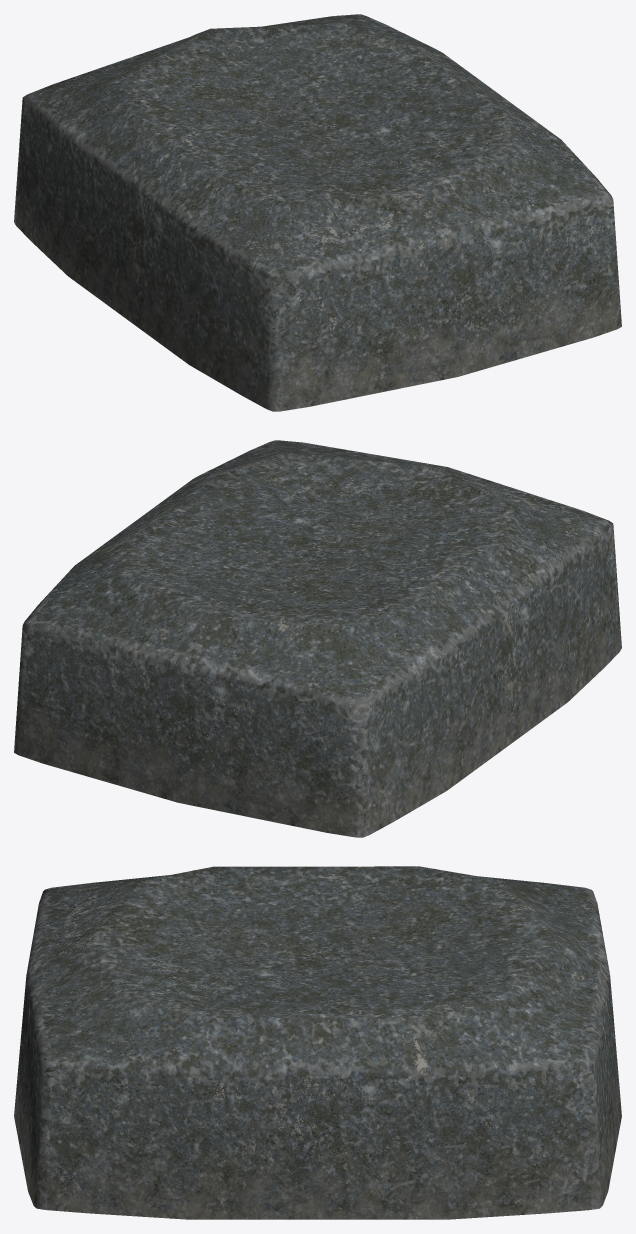
The model's file is SM_Cornerstone01d.fbx.
3 views of the same model, one above another, from view 1: azimuth 30°, elevation 25°; view 2: azimuth 150°, elevation 25°; view 3: azimuth 270°, elevation 25° (orthographic). The views are drawn at different scales.
Visible parts, largest first — view 1: SM_Cornerstone01d; view 2: SM_Cornerstone01d; view 3: SM_Cornerstone01d.
Part boxes in pixels (left/top/right/bottom): SM_Cornerstone01d: left=14, top=14, right=621, bottom=411; SM_Cornerstone01d: left=14, top=440, right=621, bottom=837; SM_Cornerstone01d: left=14, top=866, right=621, bottom=1219.
Size of the model in its own units: 52.33 by 66.04 by 21.36.
Materials: 1 (1 with a texture image).
